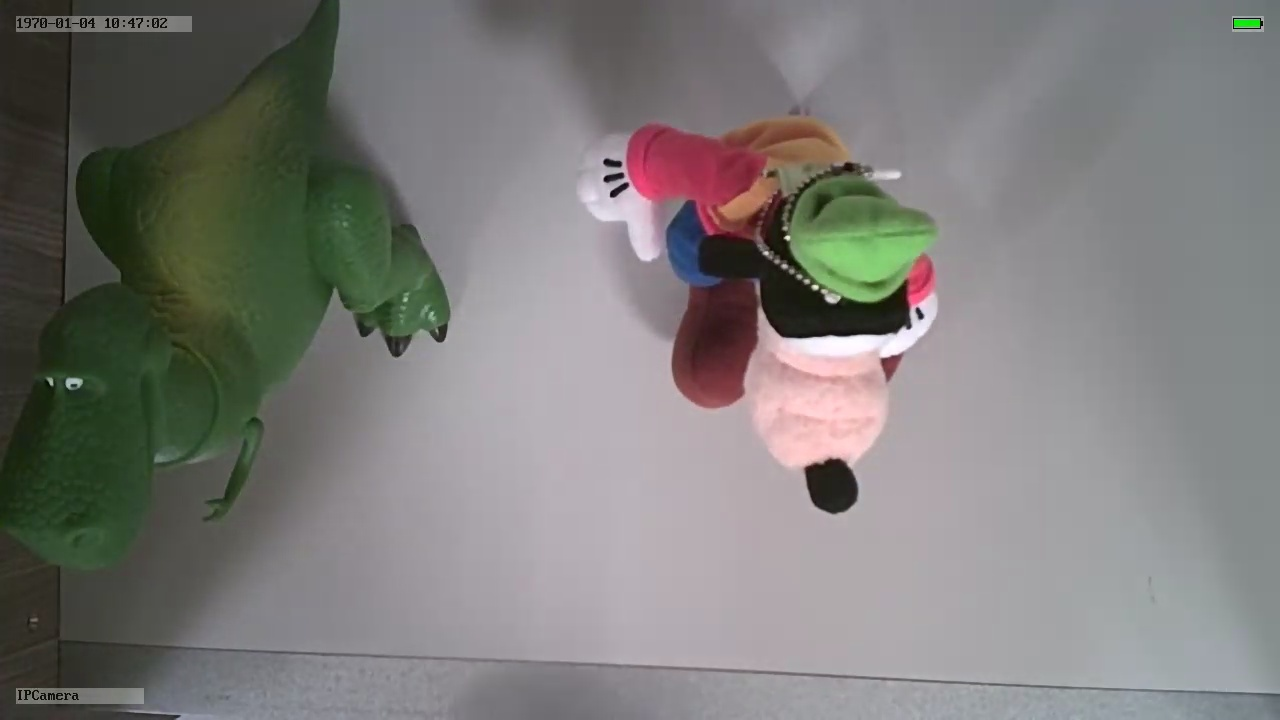goofy: (570, 115, 944, 515)
rex: (2, 70, 453, 576)
